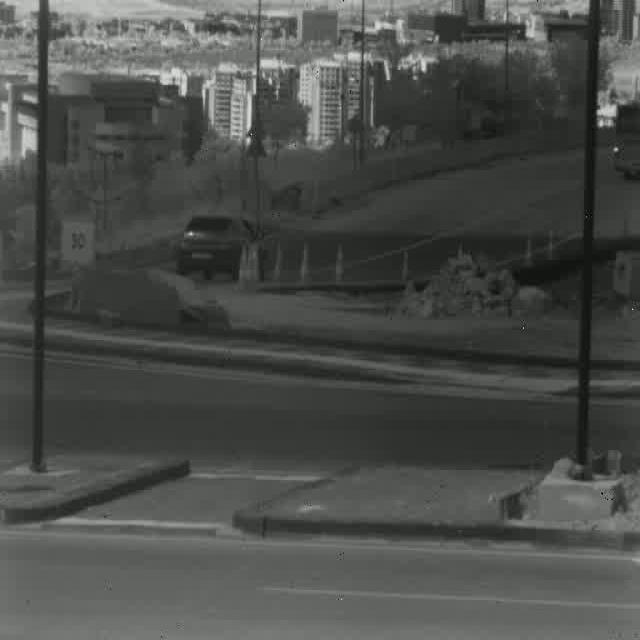Bus: (614, 100, 640, 180)
Car: (179, 214, 263, 284)
